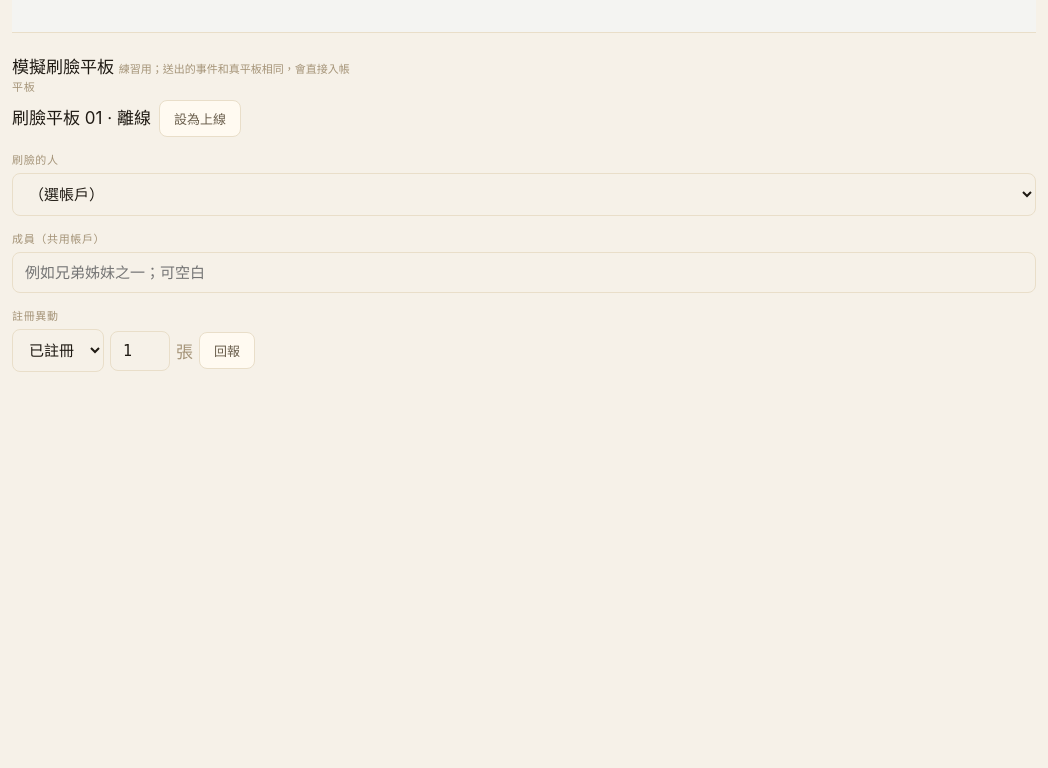
Test: 模擬刷臉平板 › 第一次刷臉只有「正確，訂餐」；之後變成「加訂一份」「取消訂餐」；結果用平板的文字顯示
The width and height of the screenshot is (1048, 768).
Select "005 張家" in the dropdown named "刷臉的帳戶". click: (524, 194)
box: top-left (12, 173), bottom-right (1036, 216)
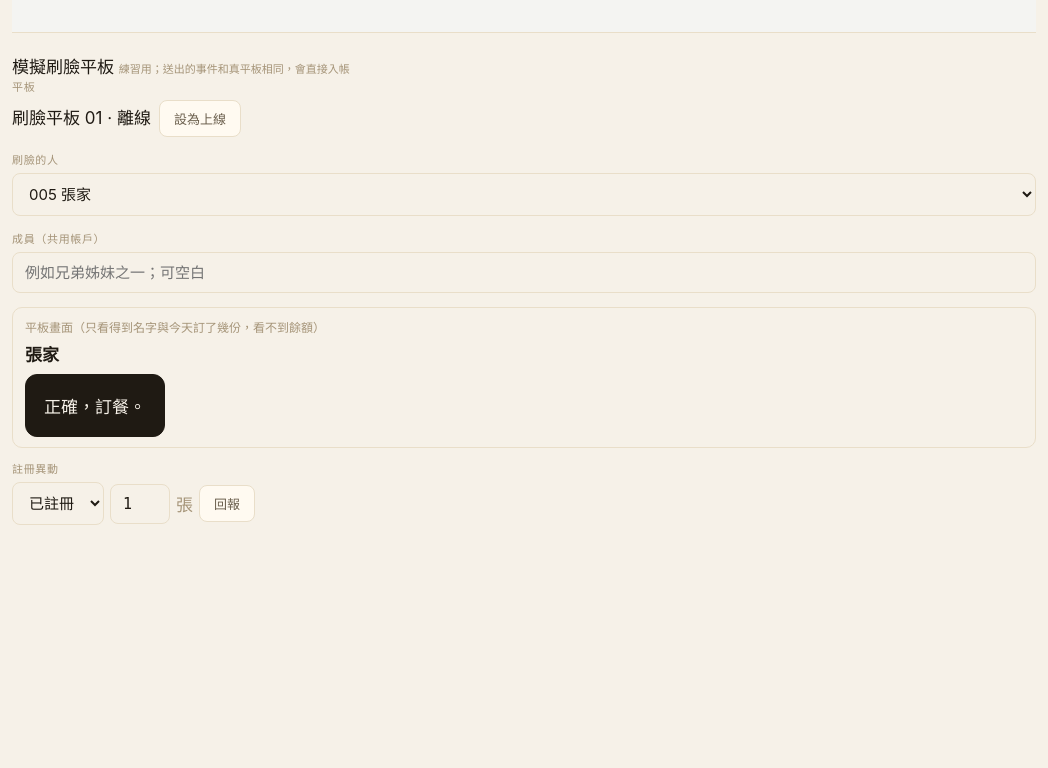
Type "張小華" into the field named "刷臉的成員". click: (524, 272)
box: top-left (12, 252), bottom-right (1036, 293)
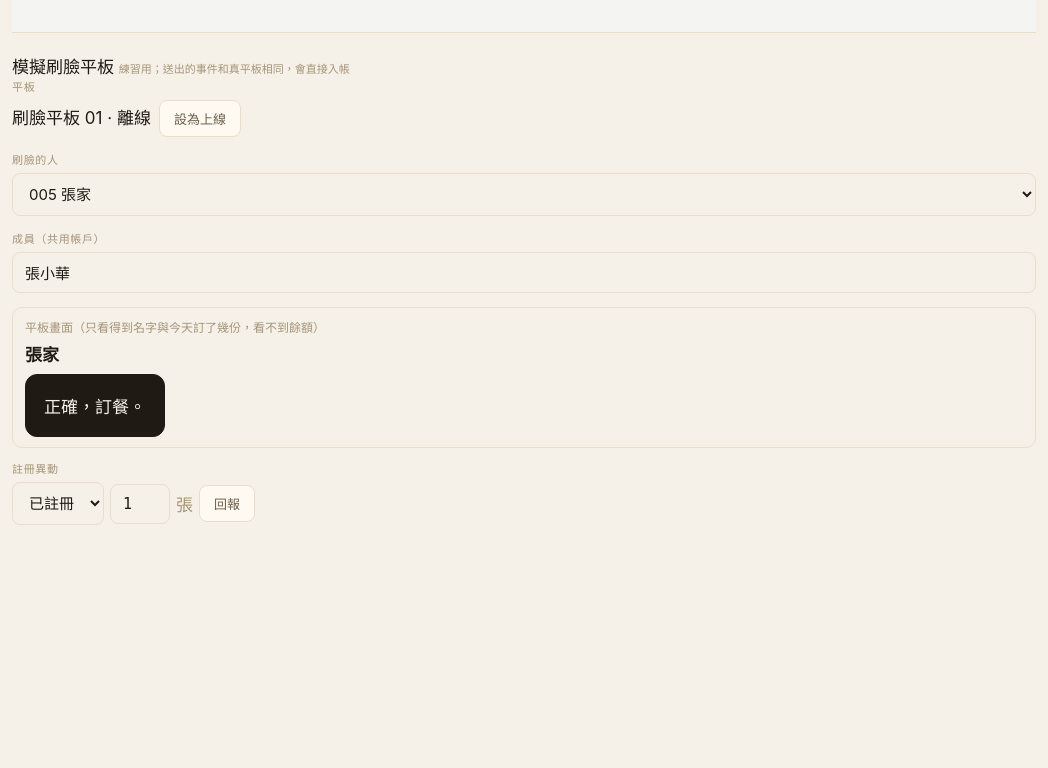
Expected: the button "取消訂餐" is not shown
Click the button "正確，訂餐。". click: (95, 406)
box: top-left (25, 374), bottom-right (165, 437)
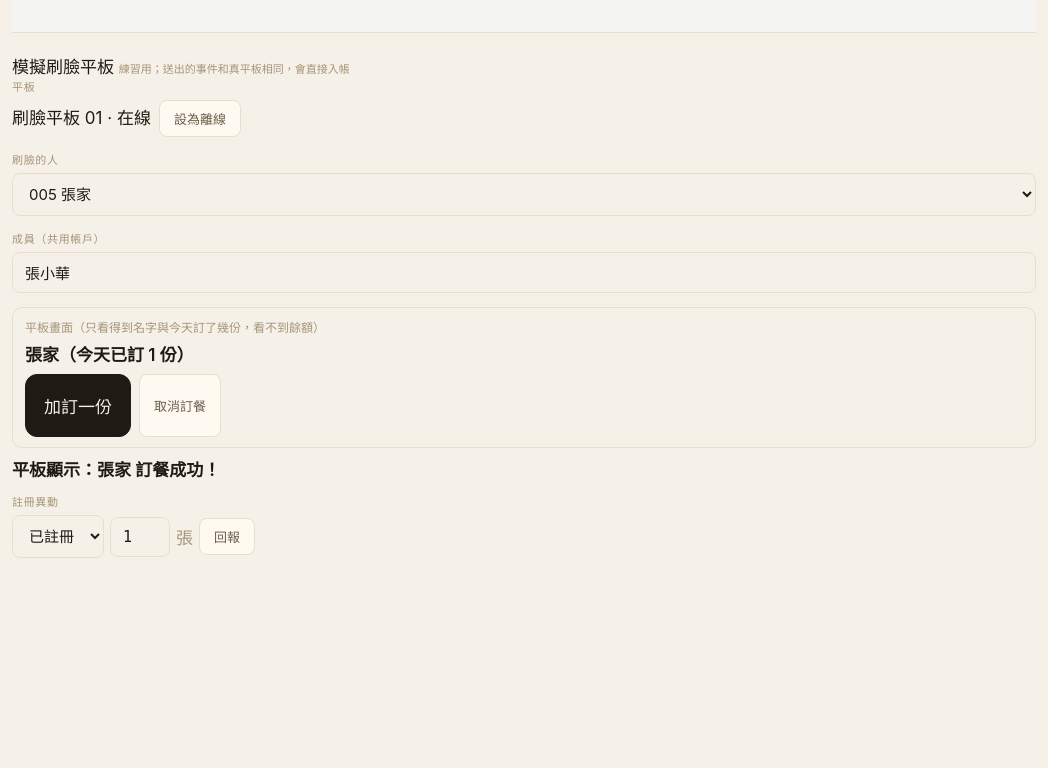
Expected: the message reads "平板顯示：張家 訂餐成功！", top-left (12, 460), bottom-right (220, 480)
Click the button "加訂一份". click: (78, 406)
box: top-left (25, 374), bottom-right (131, 437)
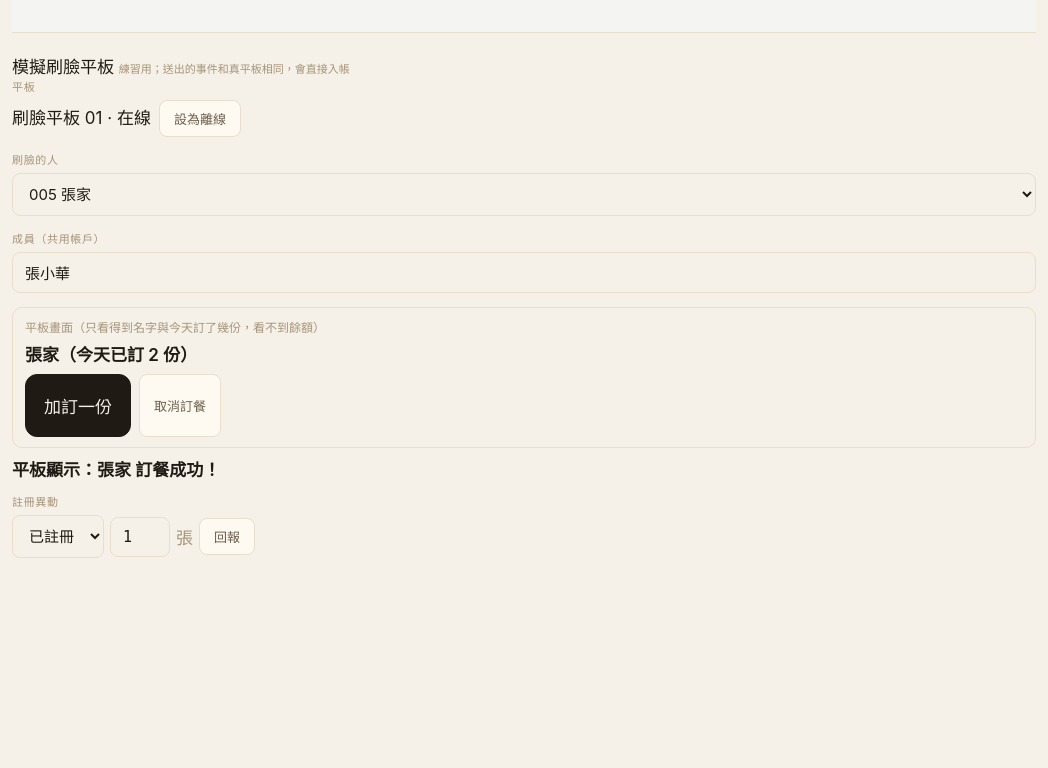
Click the button "取消訂餐". click: (180, 406)
box: top-left (139, 374), bottom-right (221, 437)
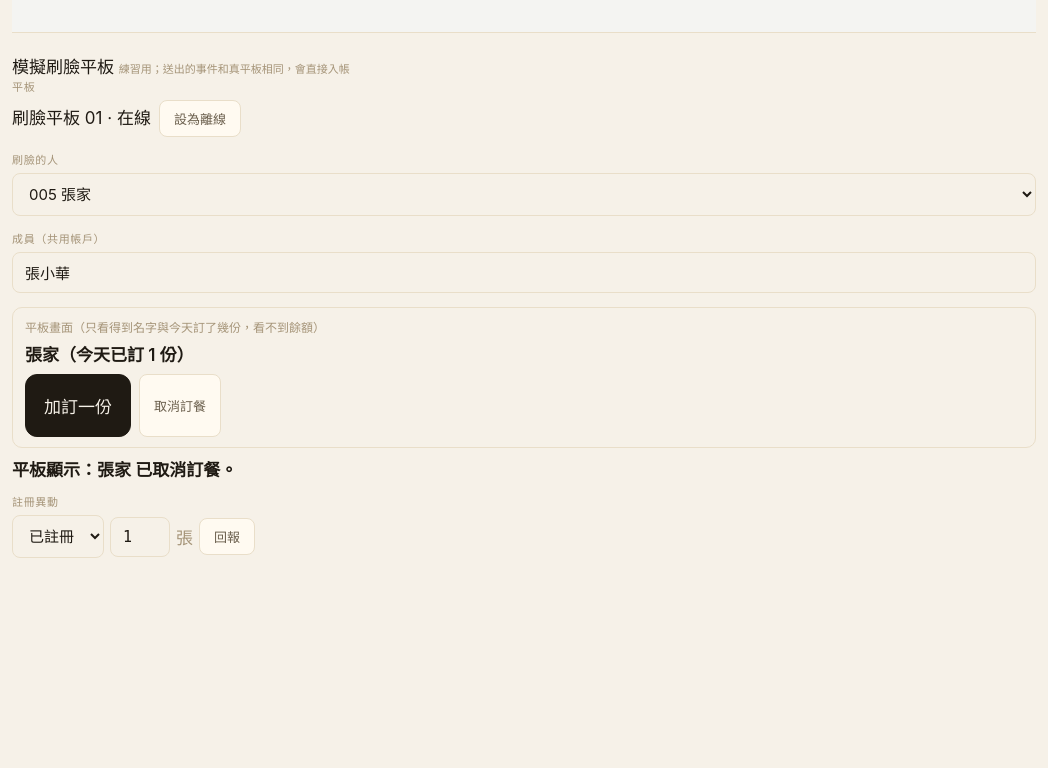
Expected: the message reads "平板顯示：張家 已取消訂餐。", top-left (12, 460), bottom-right (237, 480)
